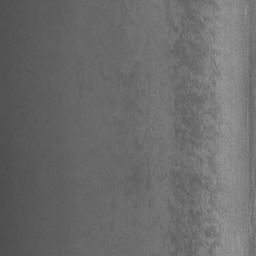Silk spot: (112, 0, 226, 256), (133, 200, 151, 211)
